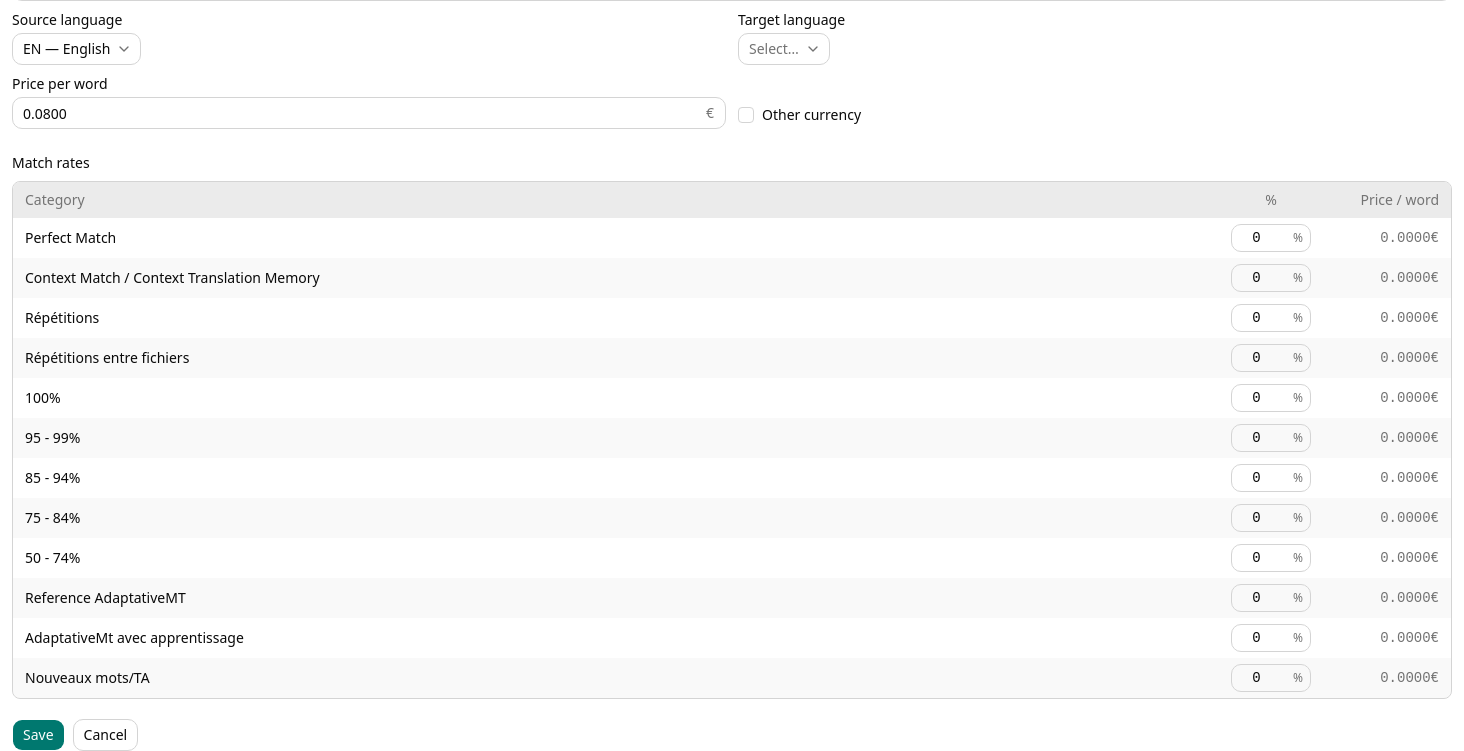
it: RateSheetForm › shows error when occupation selected but targetLanguage is missing
This screenshot has width=1464, height=751.
(page scrolled)
Click the button "Save" at x=38, y=735, box x1=12 y1=719 x2=65 y2=750
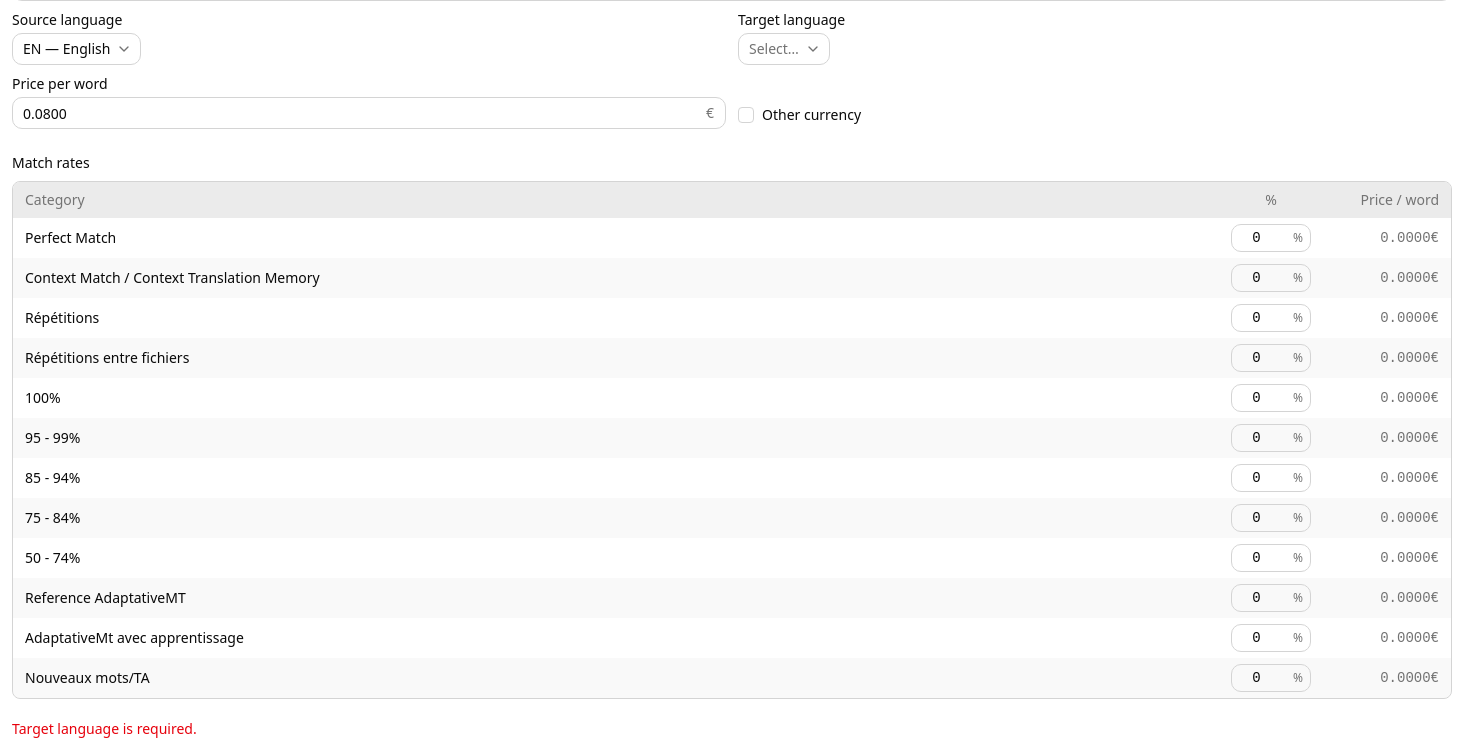
expect the text "Target language is required." is shown: met, box x1=12 y1=719 x2=197 y2=738
